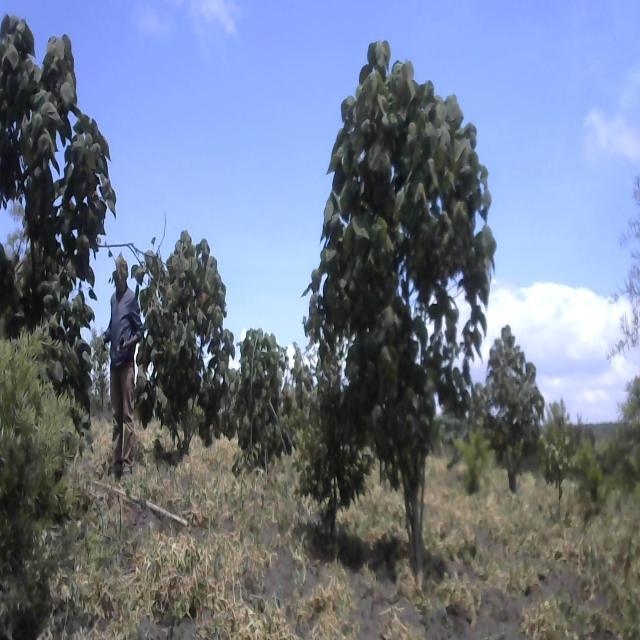Dombeya torrida: (303, 34, 508, 562), (4, 0, 109, 402), (157, 235, 233, 498), (486, 321, 546, 478), (235, 326, 298, 470)
Podocarpus falcatus: (0, 327, 68, 640)
